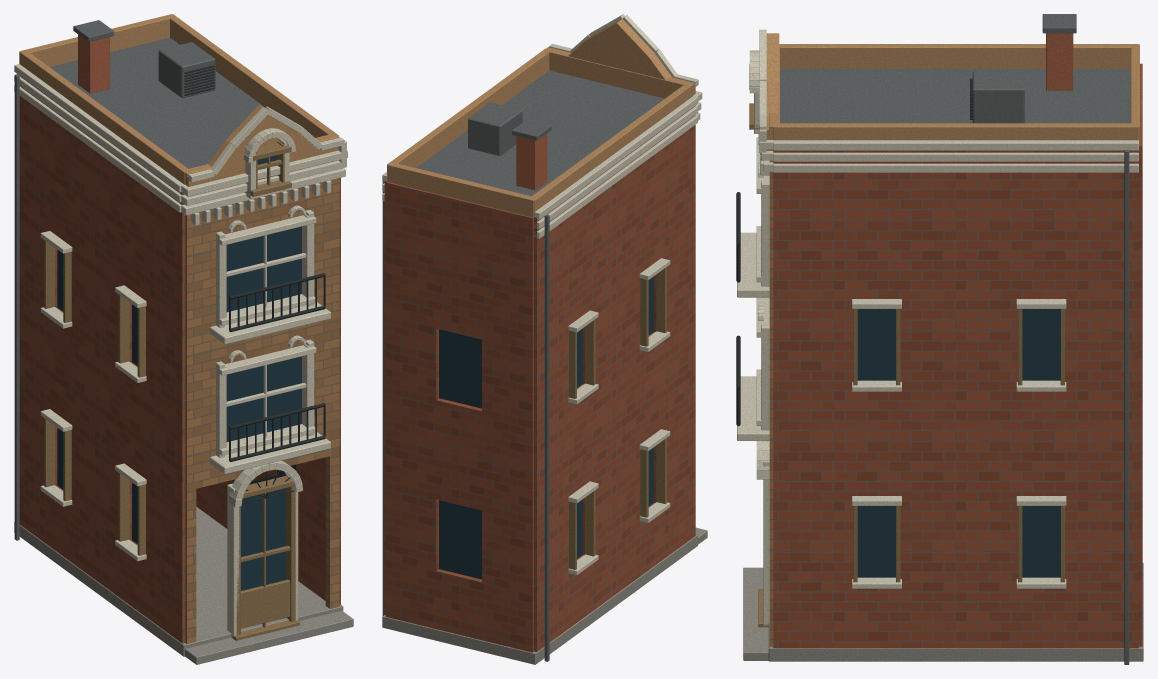
Rendered from VICT22_lod1.glb.
3 views of the same model, side by side, from view 1: azimuth 30°, elevation 25°; view 2: azimuth 150°, elevation 25°; view 3: azimuth 270°, elevation 25° (orthographic). The views are drawn at different scales.
Visible parts, largest first — view 1: VICT22_LOD1; view 2: VICT22_LOD1; view 3: VICT22_LOD1.
Part boxes in pixels (x1=…): VICT22_LOD1: x1=14, y1=14, x2=353, y2=664; VICT22_LOD1: x1=382, y1=14, x2=707, y2=664; VICT22_LOD1: x1=736, y1=14, x2=1143, y2=664.
Size of the model in its own units: 3.71 by 10.64 by 6.68.
11 materials, 9 textured.
